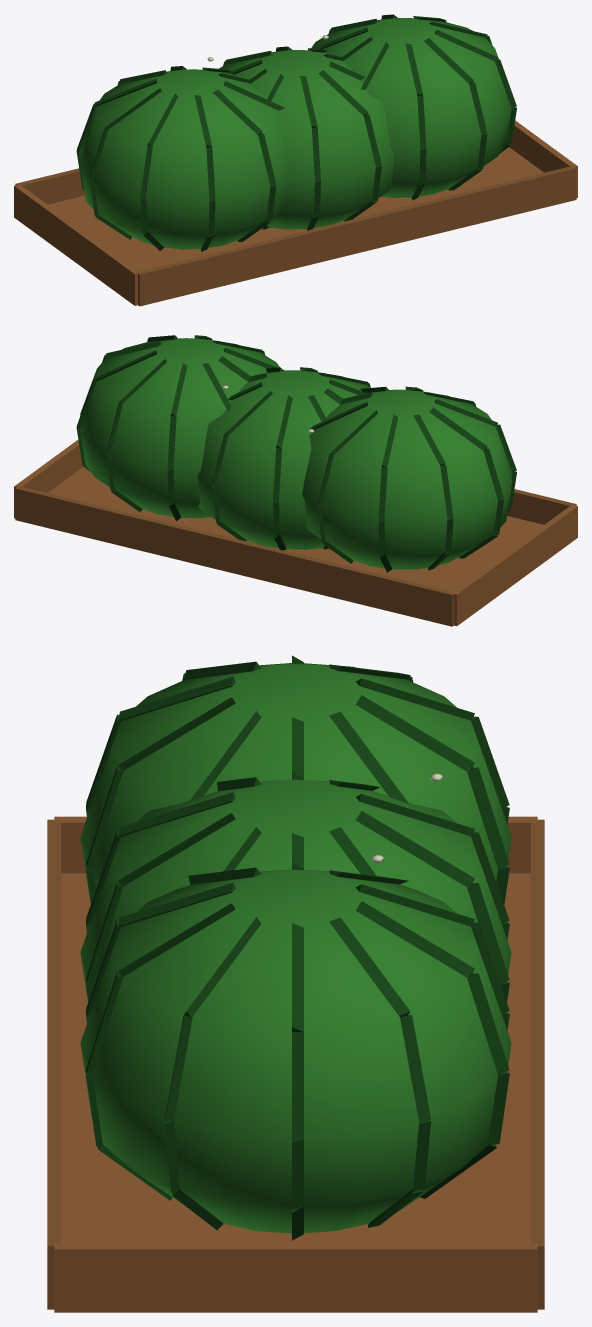
File: Fruit_Watermelon.fbx
The picture shows the model from 3 angles, top to bottom: view 1: azimuth 30°, elevation 25°; view 2: azimuth 150°, elevation 25°; view 3: azimuth 270°, elevation 25°; orthographic projection. The views are drawn at different scales.
Parts seen in each view (by area): view 1: Fruit_Watermelon__Stack, Fruit_Watermelon; view 2: Fruit_Watermelon__Stack, Fruit_Watermelon; view 3: Fruit_Watermelon__Stack, Fruit_Watermelon.
Boxes of the visible parts, x1=… form: Fruit_Watermelon__Stack: x1=14, y1=14, x2=577, y2=306; Fruit_Watermelon: x1=219, y1=46, x2=394, y2=230; Fruit_Watermelon__Stack: x1=14, y1=335, x2=577, y2=626; Fruit_Watermelon: x1=197, y1=367, x2=370, y2=550; Fruit_Watermelon__Stack: x1=47, y1=655, x2=544, y2=1312; Fruit_Watermelon: x1=80, y1=772, x2=511, y2=1002.
Size of the model in its own units: 0.5862 by 0.1941 by 0.285.
